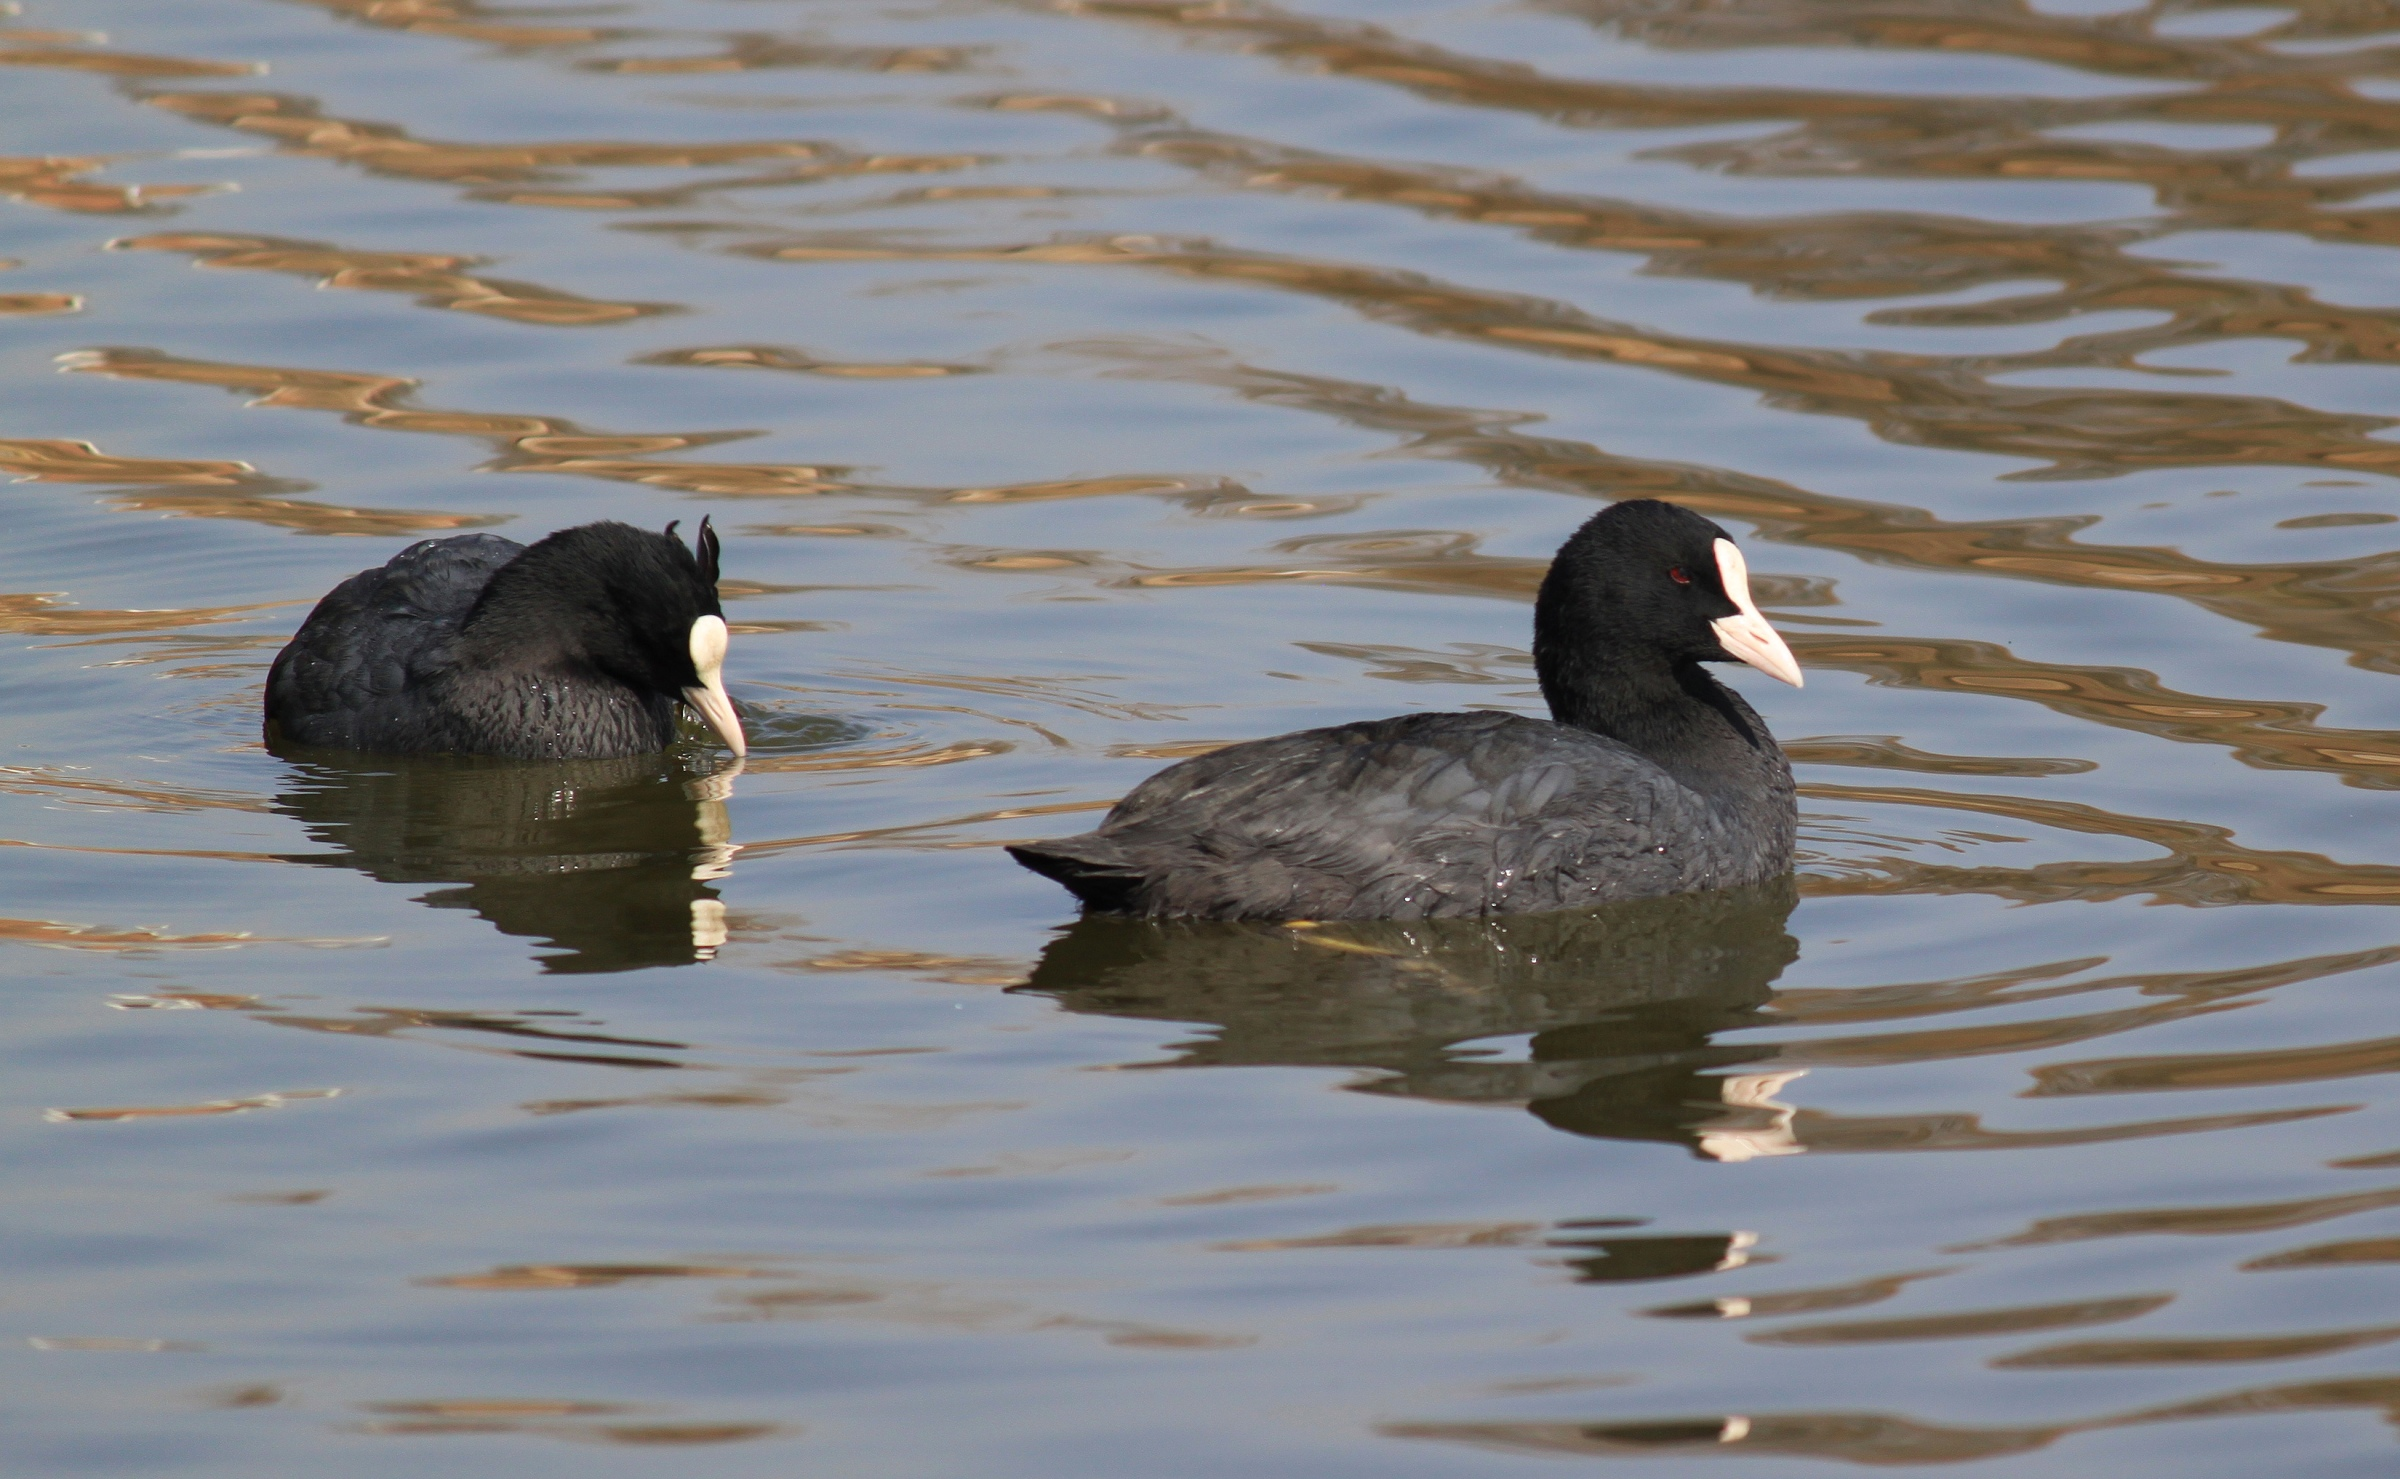bird: (975, 435, 1920, 1015), (218, 451, 818, 804)
